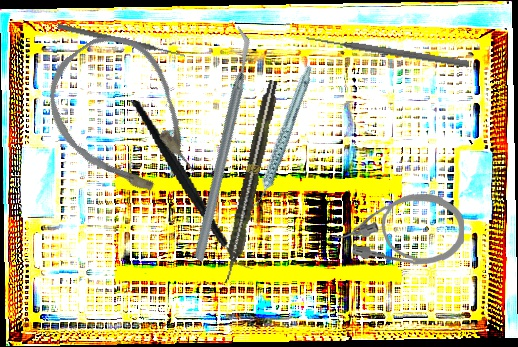Cannula: (26, 16, 221, 222), (333, 190, 466, 267)
Chopper: (113, 25, 328, 263), (131, 84, 254, 287)
Handpiece: (223, 64, 340, 210), (217, 78, 283, 286)
Pusher: (305, 33, 470, 69), (56, 22, 187, 60)
